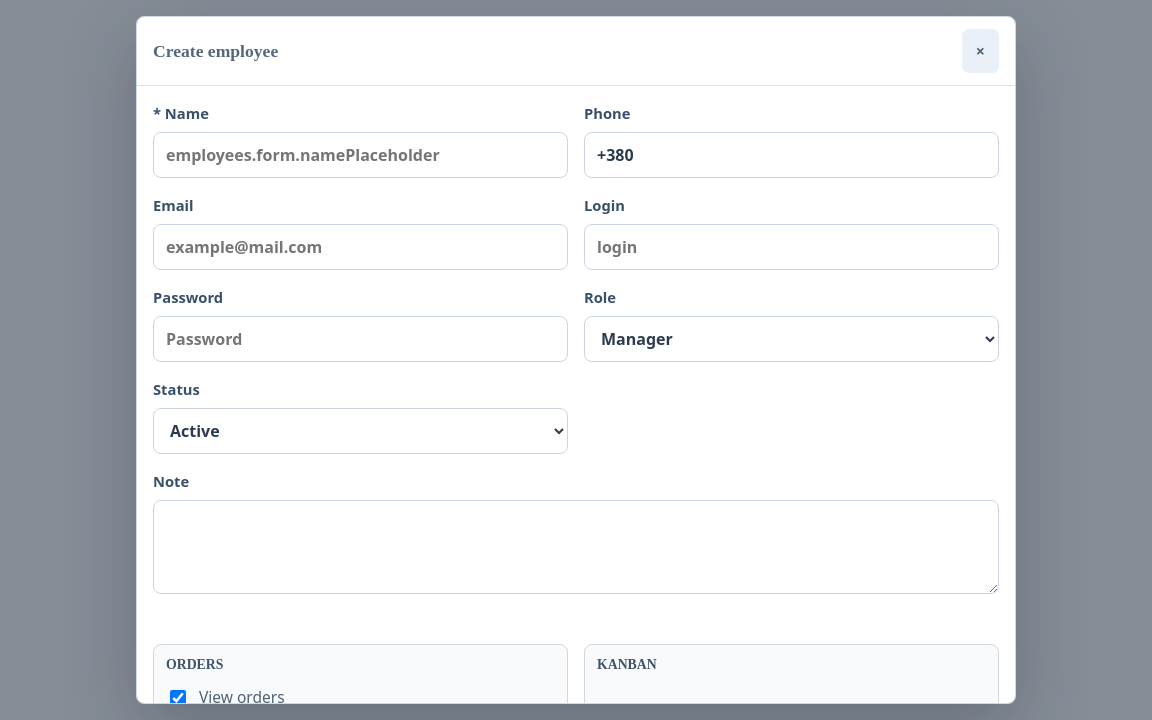
EmployeeFormModal › activates supplier-order and inventory defaults for manager role
This screenshot has width=1152, height=720.
Step 1. Select "Manager" in the dropdown labelled "Role" → (792, 339), box [584,316,999,362]
(page scrolled)
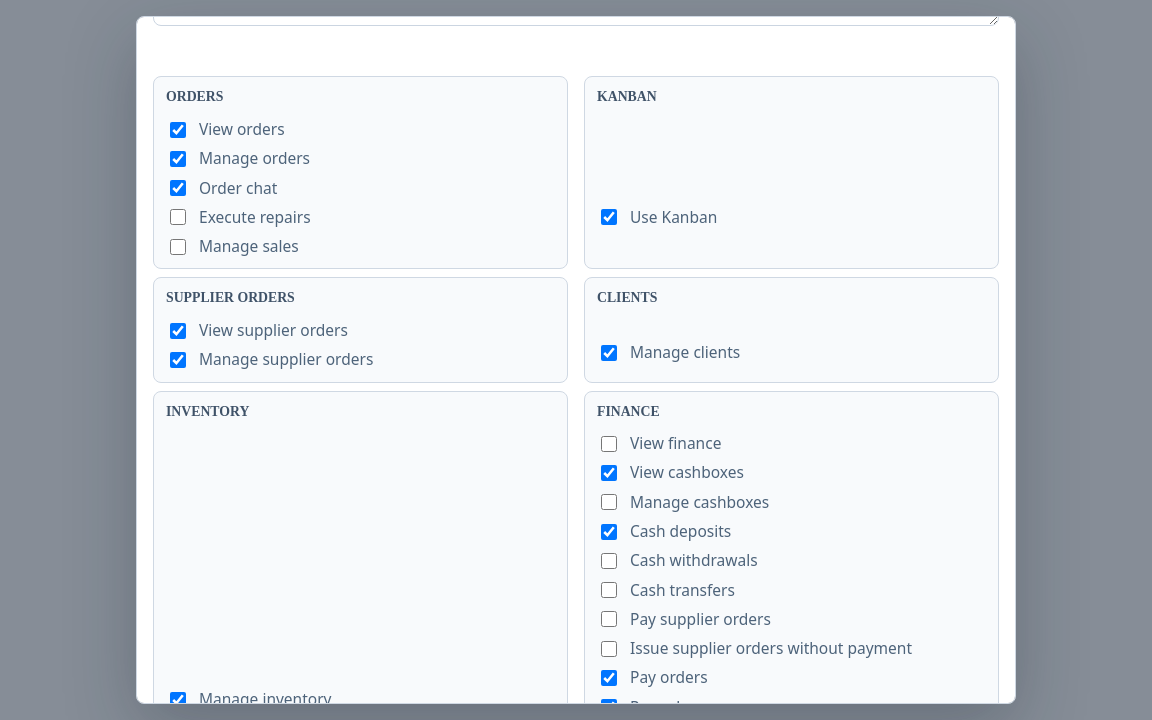
Expected: the checkbox labelled "Manage orders" is checked, [170,151,186,167]
Expected: the checkbox labelled "Order chat" is checked, [170,180,186,196]
Expected: the checkbox labelled "Use Kanban" is checked, [601,210,617,226]
